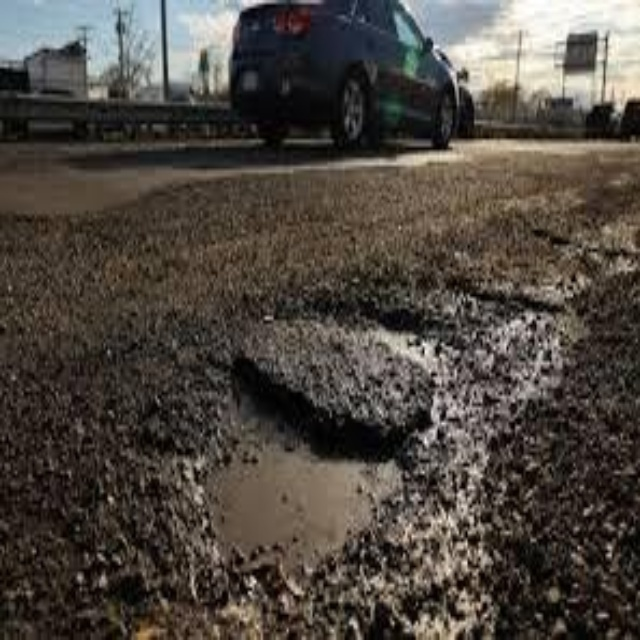pothole: (205, 305, 532, 595)
